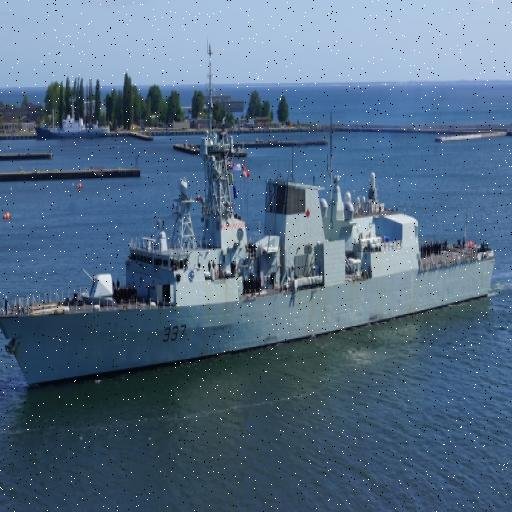Fragata: (1, 43, 498, 398)
